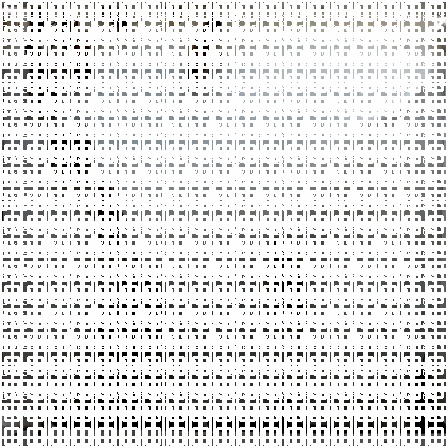bee: (259, 228, 326, 342), (71, 163, 141, 260), (176, 5, 242, 98), (70, 306, 174, 358), (46, 8, 103, 97), (35, 121, 101, 193), (395, 349, 446, 437), (104, 263, 174, 326), (14, 43, 66, 126)
